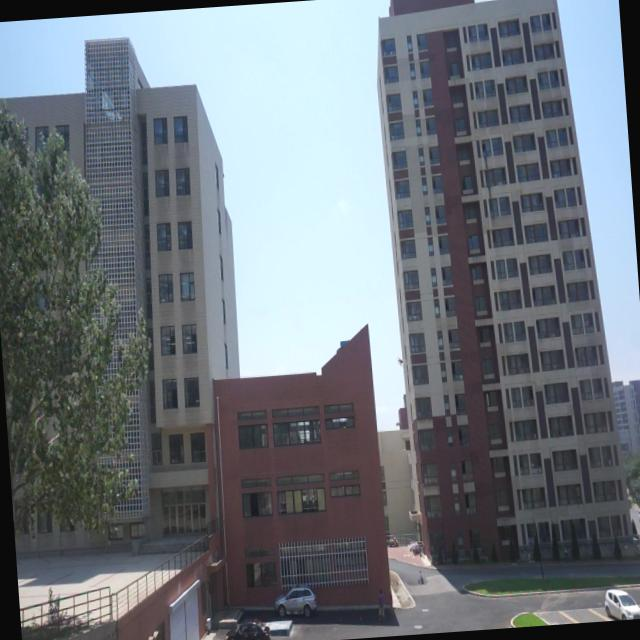drone: (395, 354, 405, 368)
